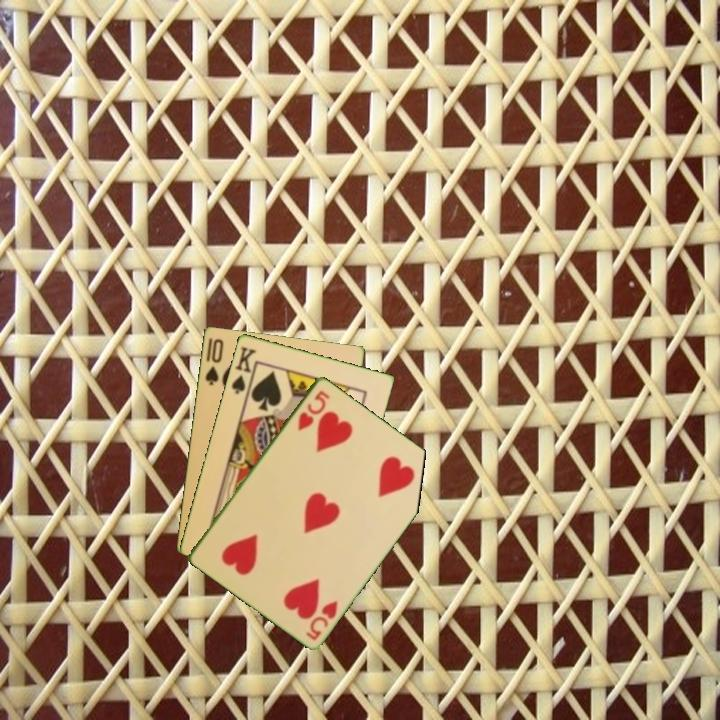10s: (201, 335, 226, 388)
5h: (294, 386, 333, 434), (302, 596, 341, 643)
Ks: (228, 342, 259, 399)
